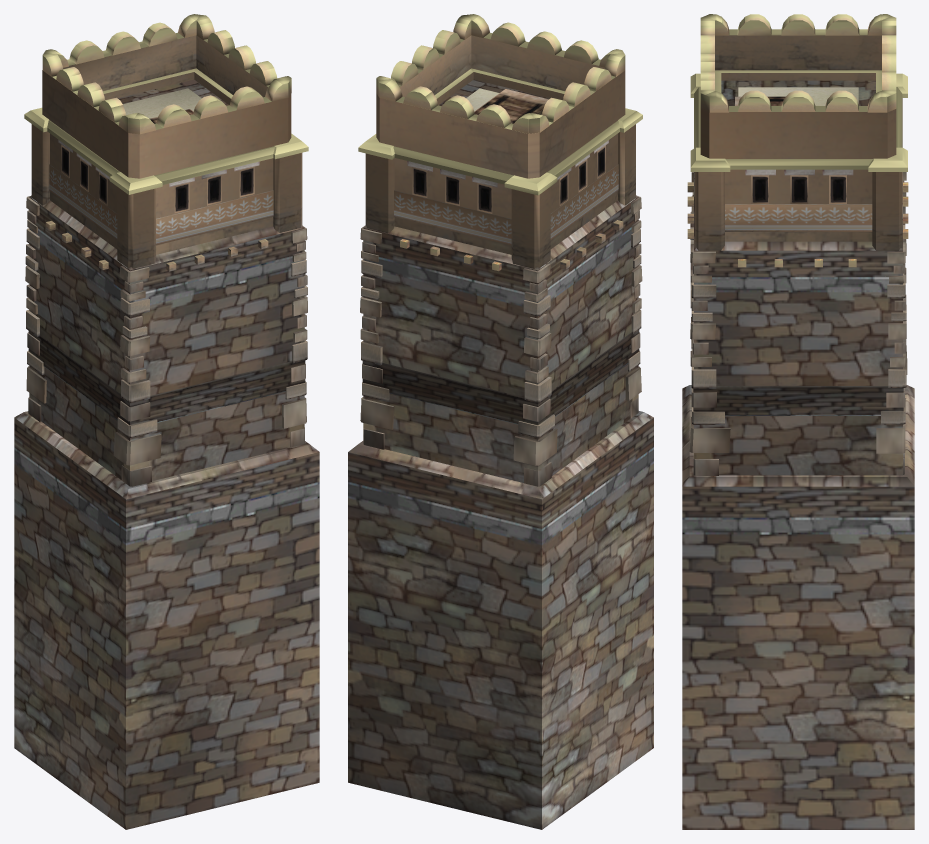
File: kush_wall_tower.glb
The picture shows the model from 3 angles, left to right: view 1: azimuth 30°, elevation 25°; view 2: azimuth 150°, elevation 25°; view 3: azimuth 270°, elevation 25°; orthographic projection. The views are drawn at different scales.
Parts seen in each view (by area): view 1: kush_wall_tower_part0; view 2: kush_wall_tower_part0; view 3: kush_wall_tower_part0.
Part boxes in pixels (x1,y1,x2,y2): kush_wall_tower_part0: [14, 14, 319, 829]; kush_wall_tower_part0: [348, 14, 653, 829]; kush_wall_tower_part0: [682, 14, 914, 829].
Bounding box in the file's own units: 2.2 × 7.58 × 2.2.
Materials: 2 (2 with a texture image).
